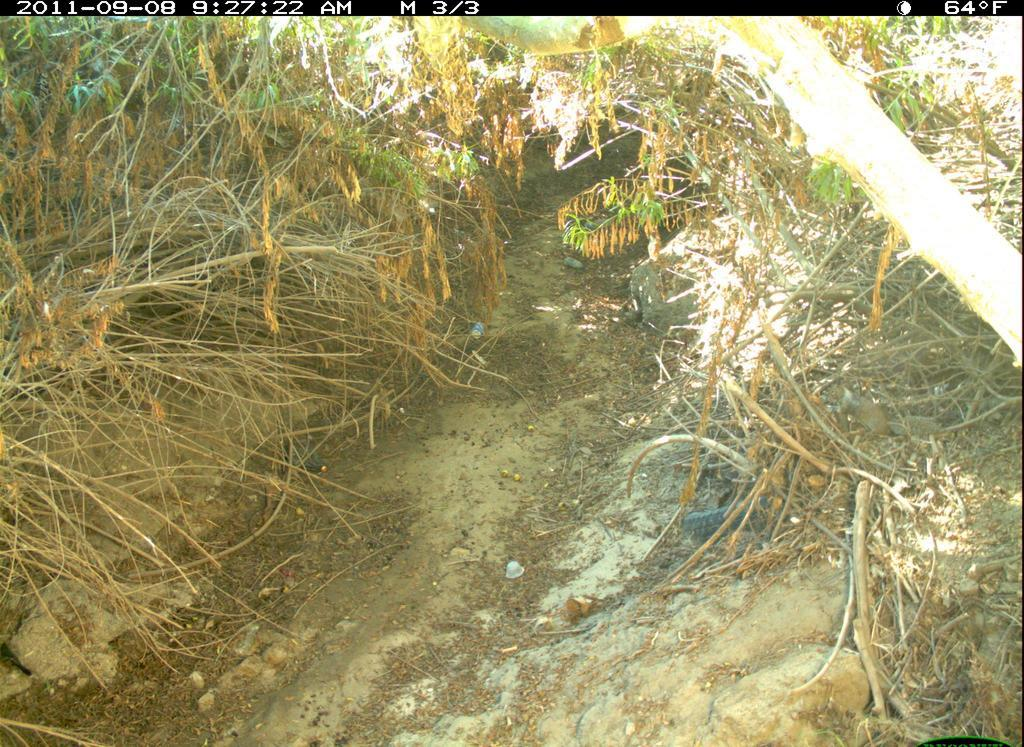squirrel: (819, 373, 955, 451)
